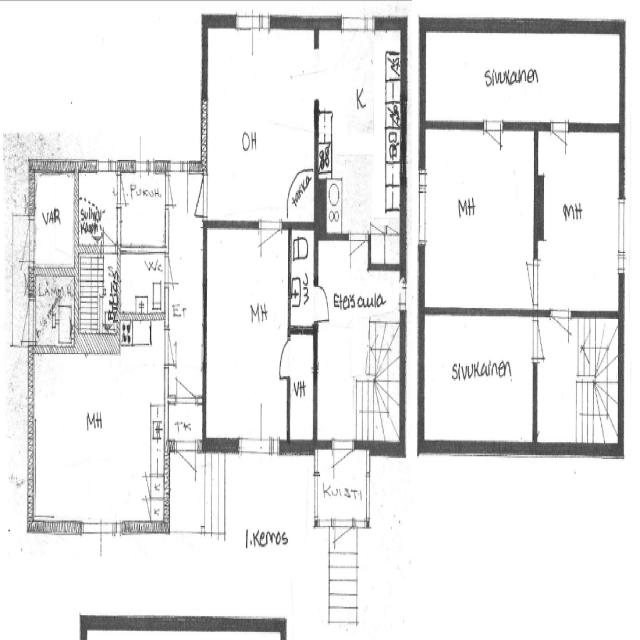door: (293, 48, 321, 108), (544, 115, 572, 166), (256, 213, 285, 258), (481, 109, 506, 157), (528, 314, 549, 371), (329, 434, 357, 476), (548, 298, 574, 340), (522, 252, 541, 305), (175, 437, 200, 477), (310, 280, 332, 325), (189, 172, 208, 222), (275, 334, 295, 381), (348, 228, 370, 270), (165, 170, 186, 210)
window: (233, 430, 285, 466), (614, 179, 630, 285), (416, 153, 431, 256), (337, 9, 378, 38), (233, 8, 273, 35), (80, 515, 118, 543), (397, 274, 409, 317)
zone: (28, 350, 166, 528), (203, 22, 317, 224), (421, 119, 537, 312), (424, 23, 628, 129), (316, 24, 404, 246), (205, 222, 290, 448), (419, 308, 538, 450), (535, 125, 623, 313), (165, 170, 205, 386), (78, 249, 158, 337), (30, 162, 77, 268), (118, 166, 166, 250), (77, 163, 121, 254), (74, 255, 118, 345), (119, 246, 167, 323), (32, 266, 75, 350), (288, 223, 318, 330), (288, 331, 315, 442)
